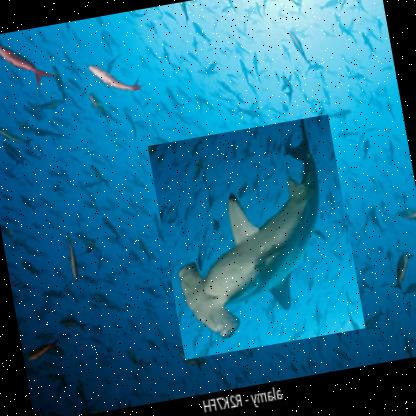hammerhead_Shark: (146, 113, 366, 360)
